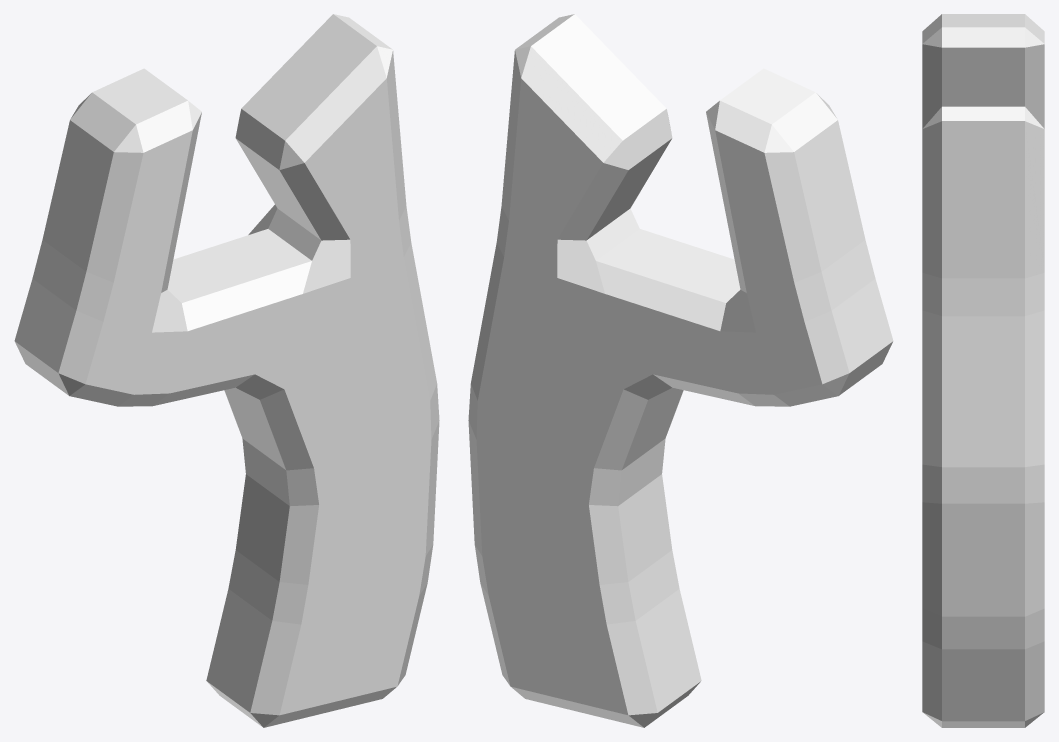
The model's file is four.glb.
3 views of the same model, side by side, from view 1: azimuth 30°, elevation 25°; view 2: azimuth 150°, elevation 25°; view 3: azimuth 270°, elevation 25° (orthographic). The views are drawn at different scales.
Visible parts, largest first — view 1: Four; view 2: Four; view 3: Four.
Boxes of the visible parts, x1,y1,x2,y2 form: Four: (14,14,439,727); Four: (468,14,893,727); Four: (922,14,1044,727).
Size of the model in its own units: 0.1163 by 0.1907 by 0.0343.
Materials: 1 (1 with a texture image).
